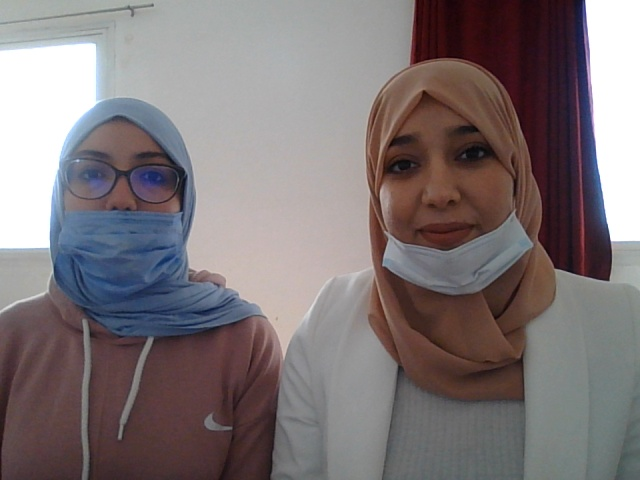mask_weared_incorrect: (321, 61, 545, 315), (59, 103, 200, 321)
